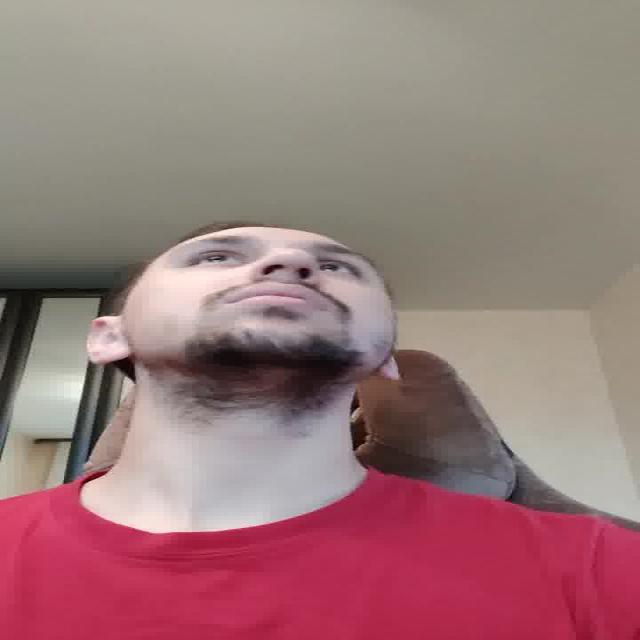earlobe: (88, 314, 134, 368)
